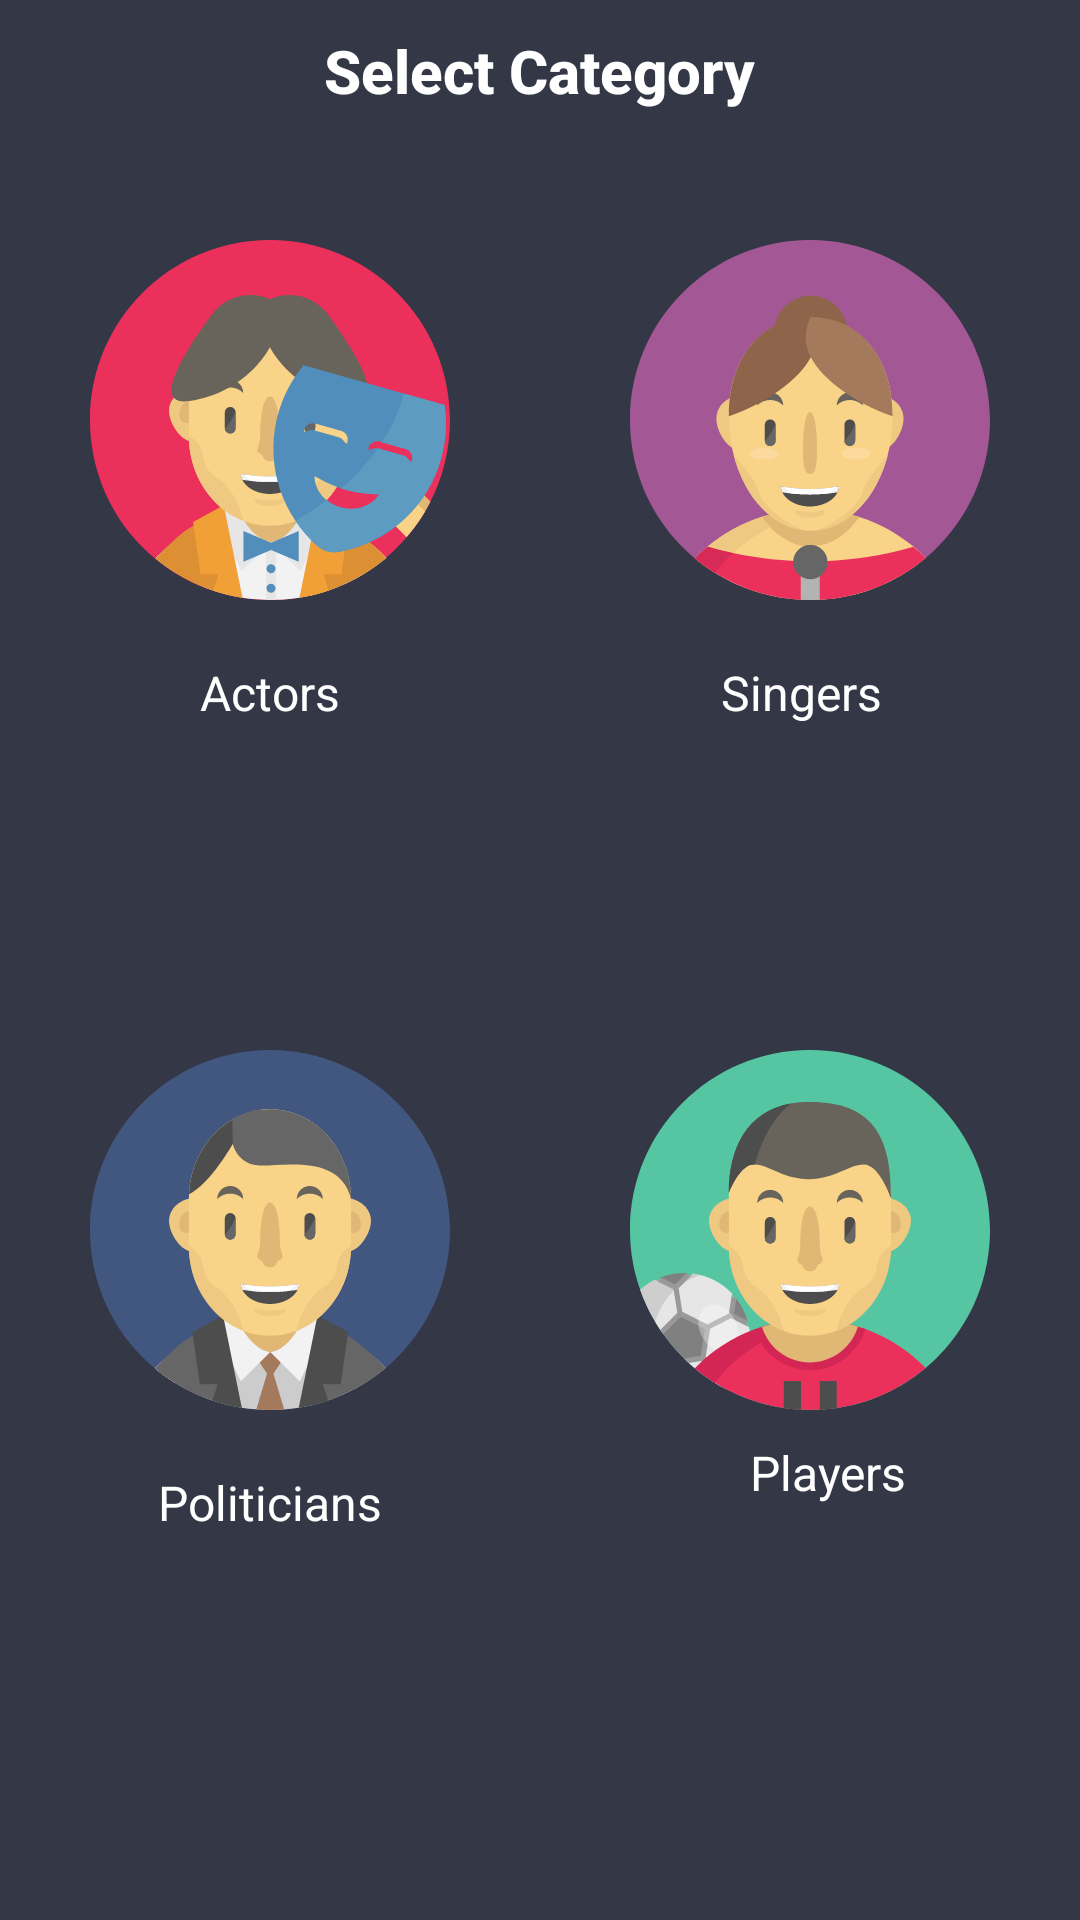

Where icons sit on this 1080*1920 app screen, as bbox=(x1, y1, x2, y2):
football player: bbox=(630, 1050, 990, 1410)
